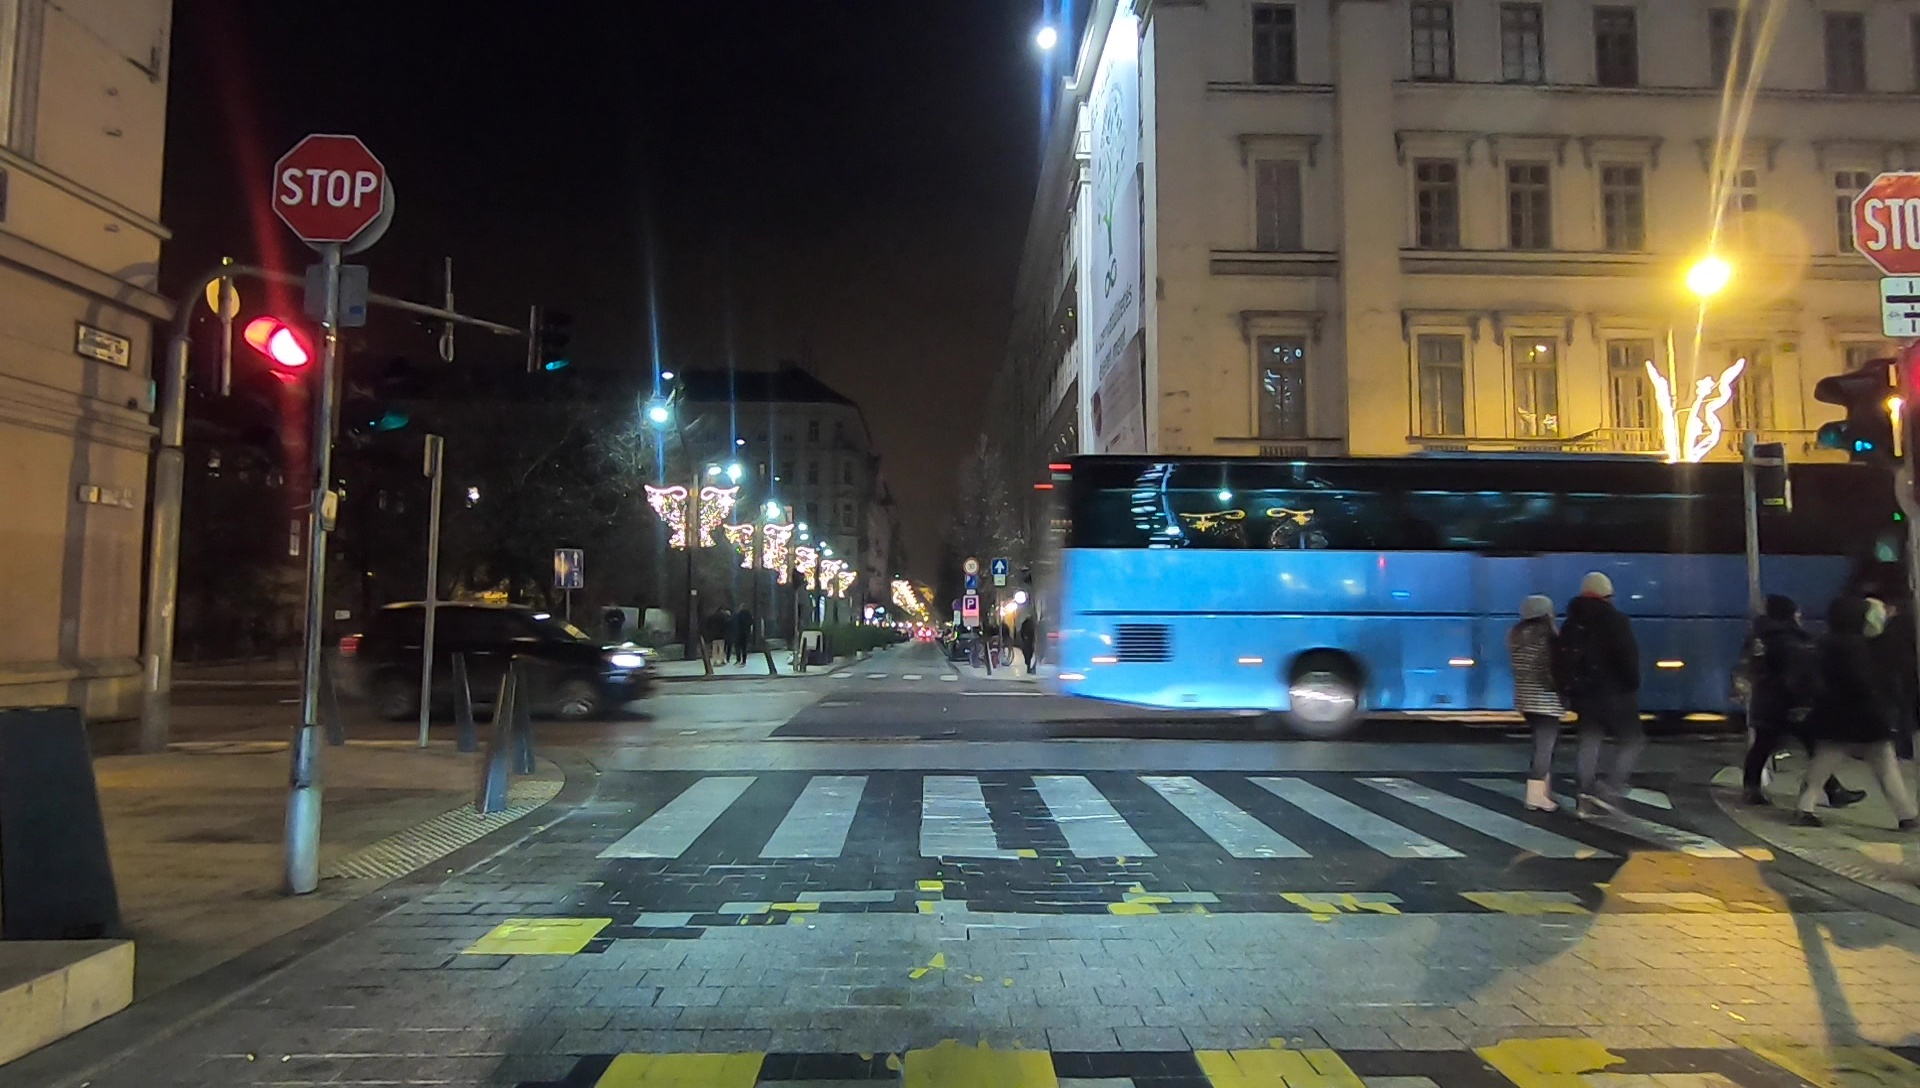person: (1797, 586, 1920, 830), (1736, 593, 1854, 819), (1567, 573, 1643, 821), (1508, 597, 1565, 824)
